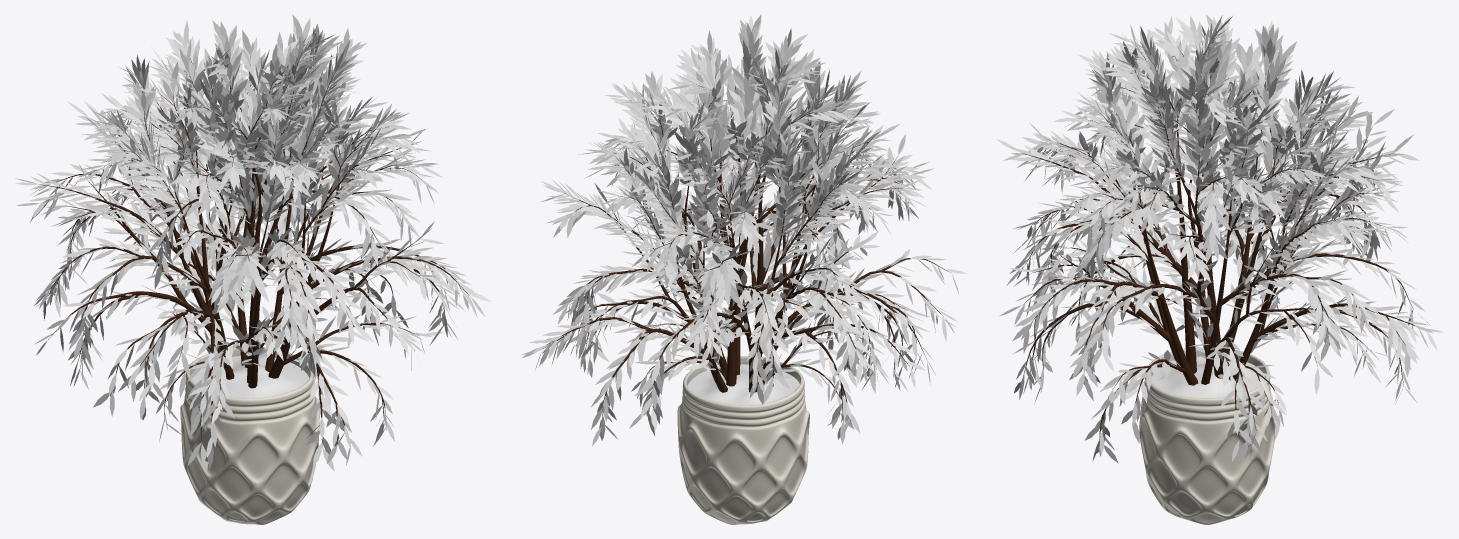
File: flower2.fbx
The picture shows the model from 3 angles, left to right: view 1: azimuth 30°, elevation 25°; view 2: azimuth 150°, elevation 25°; view 3: azimuth 270°, elevation 25°; orthographic projection. The views are drawn at different scales.
Visible parts, largest first — view 1: Weeping Willow; view 2: Weeping Willow; view 3: Weeping Willow.
Part boxes in pixels (<box>): Weeping Willow: <box>15,14,490,524</box>; Weeping Willow: <box>521,14,966,524</box>; Weeping Willow: <box>997,14,1444,524</box>.
Bounding box in the file's own units: 50.53 × 64.45 × 52.81.
